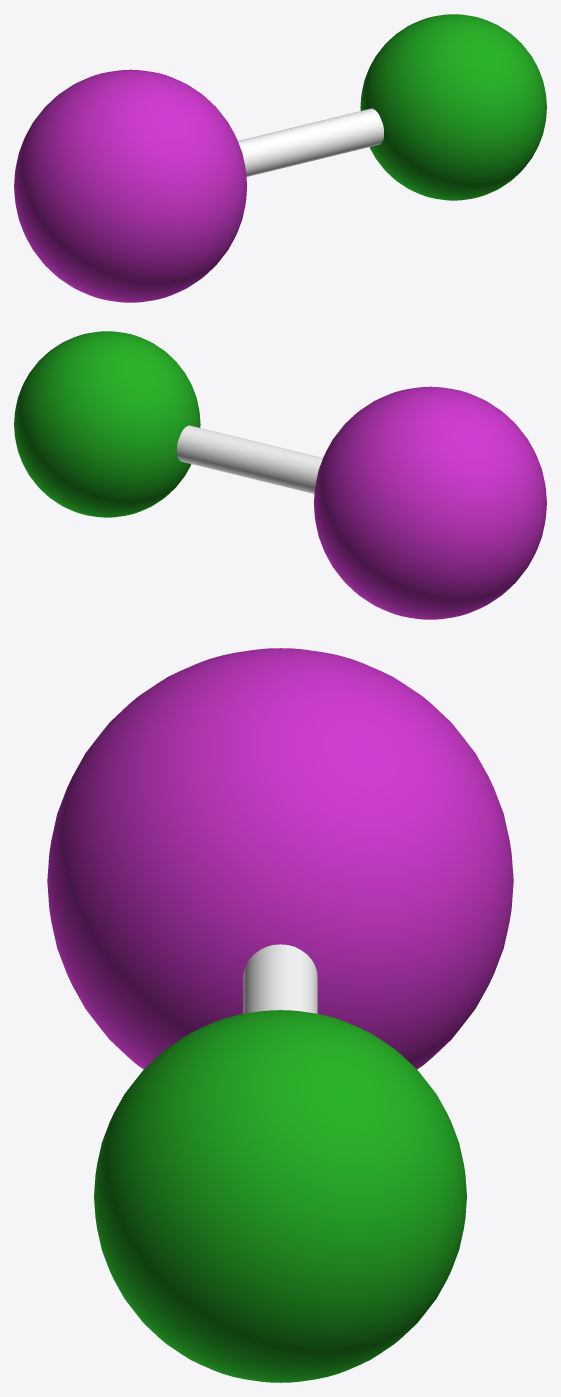
The model's file is sodium_chloride.fbx.
3 renders of one model, top to bottom at view 1: azimuth 30°, elevation 25°; view 2: azimuth 150°, elevation 25°; view 3: azimuth 270°, elevation 25°, orthographic. The views are drawn at different scales.
Parts seen in each view (by area): view 1: sodium_chloride; view 2: sodium_chloride; view 3: sodium_chloride.
Boxes of the visible parts, bbox=[...] form: sodium_chloride: bbox=[14, 14, 546, 302]; sodium_chloride: bbox=[14, 331, 546, 619]; sodium_chloride: bbox=[47, 648, 513, 1382].
Bounding box in the file's own units: 125 × 50 × 50.
